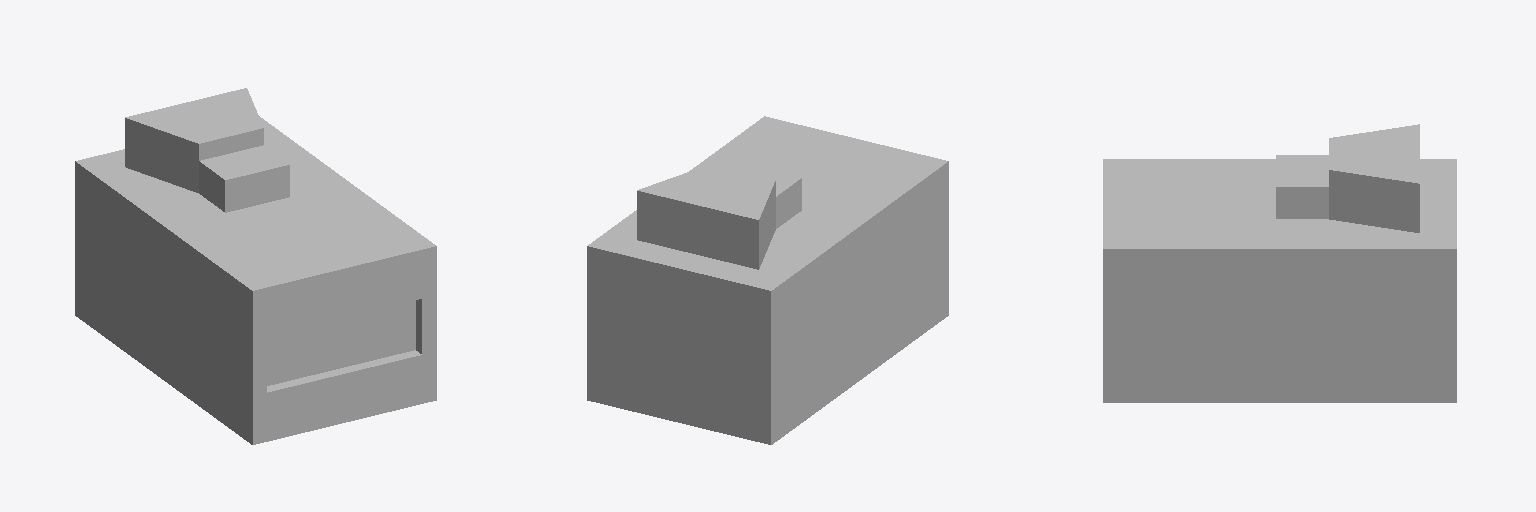
Rendered from MYRecycleFurnace.obj.
3 views of the same model, side by side, from view 1: azimuth 30°, elevation 25°; view 2: azimuth 150°, elevation 25°; view 3: azimuth 270°, elevation 25° (orthographic).
Visible parts, largest first — view 1: MYRecycleFurnace; view 2: MYRecycleFurnace; view 3: MYRecycleFurnace.
Boxes of the visible parts, x1,y1,x2,y2 form: MYRecycleFurnace: [75, 88, 436, 444]; MYRecycleFurnace: [587, 116, 948, 444]; MYRecycleFurnace: [1103, 124, 1456, 402].
Bounding box in the file's own units: 3 × 3.17 × 5.